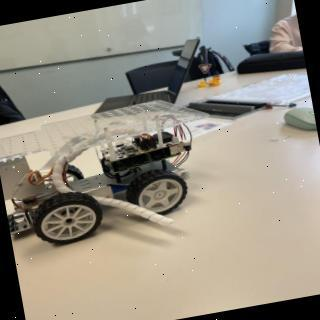vehicle: (1, 103, 213, 257)
